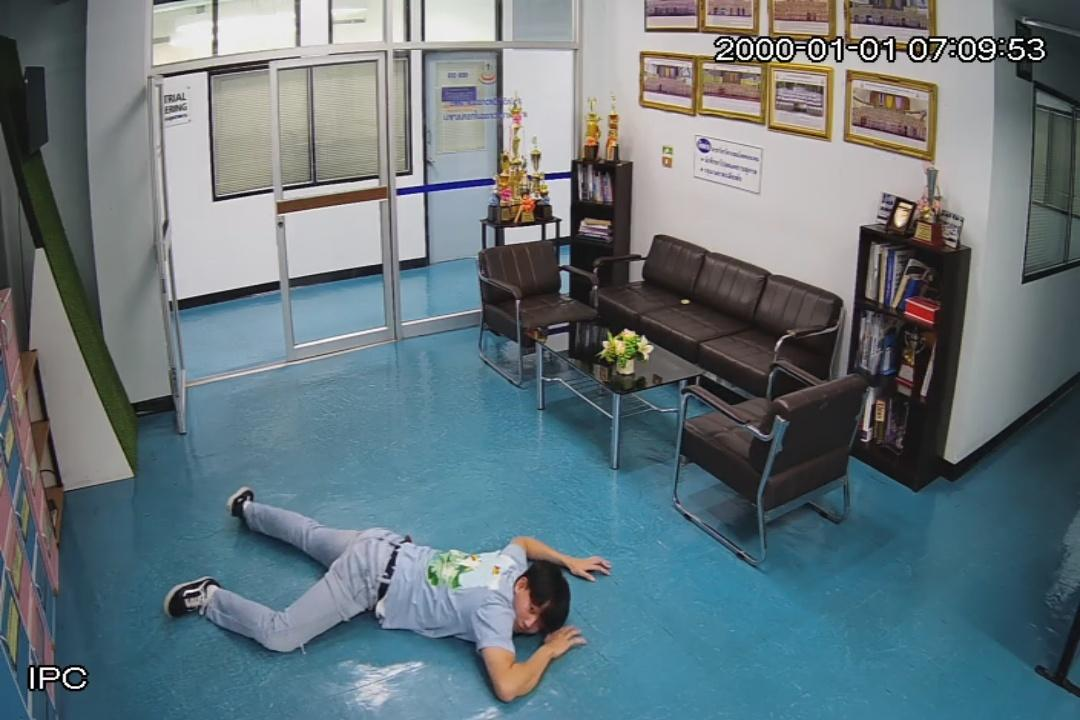fall: (164, 488, 606, 703)
